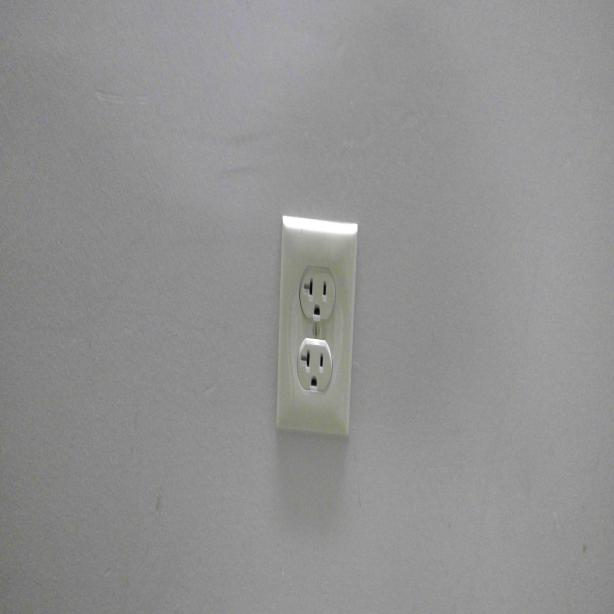typeb: (297, 264, 336, 322), (298, 344, 334, 392)
